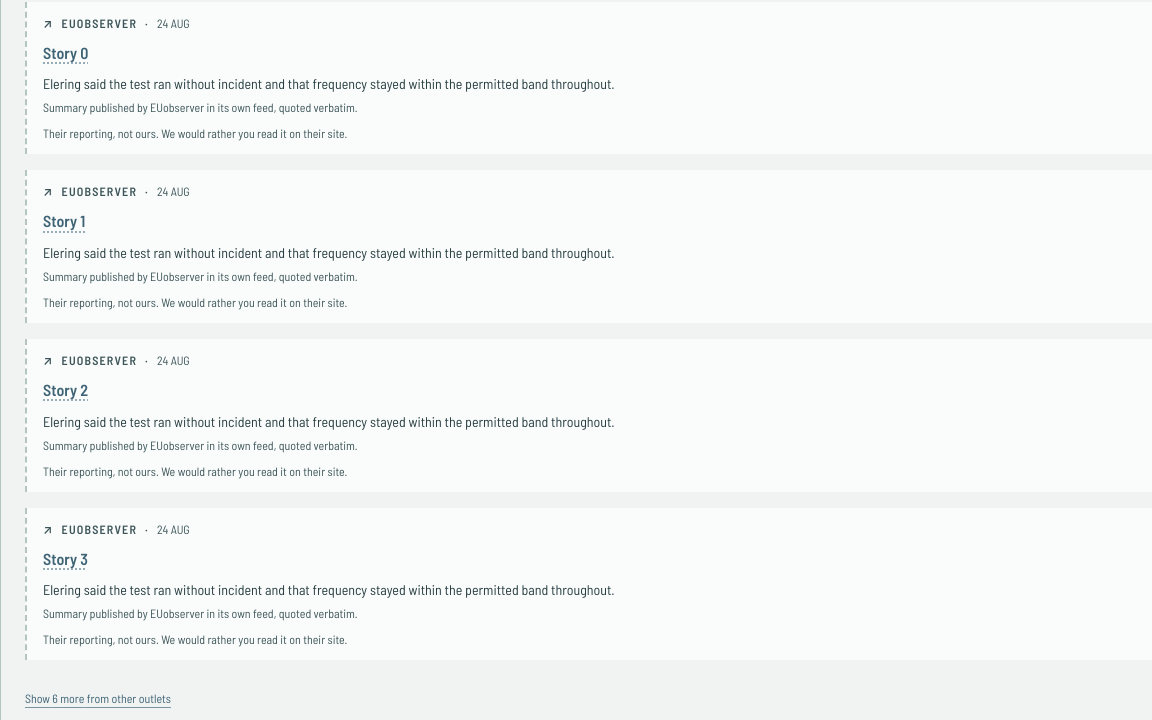
Test: Elsewhere rail: length › collapses again when the reader picks a different outlet
This screenshot has width=1152, height=720.
(page scrolled)
What coordinates should you click on to do the following:
click the button "Show 6 more from other outlets"
I would click on:
 (98, 698)
Its box is [25,676,171,719].
(page scrolled)
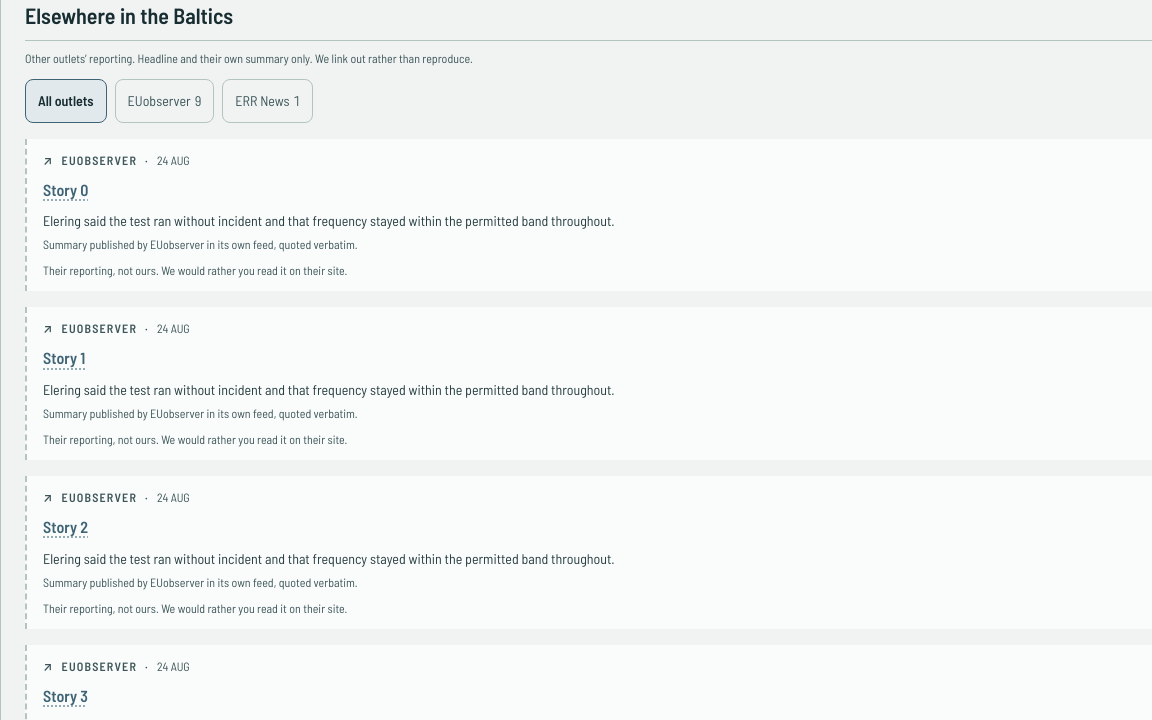
What coordinates should you click on to do the following:
click the button with aria-label "EUobserver, 9 stories"
I would click on:
 (164, 101)
Its box is [114,79,214,123].
(page scrolled)
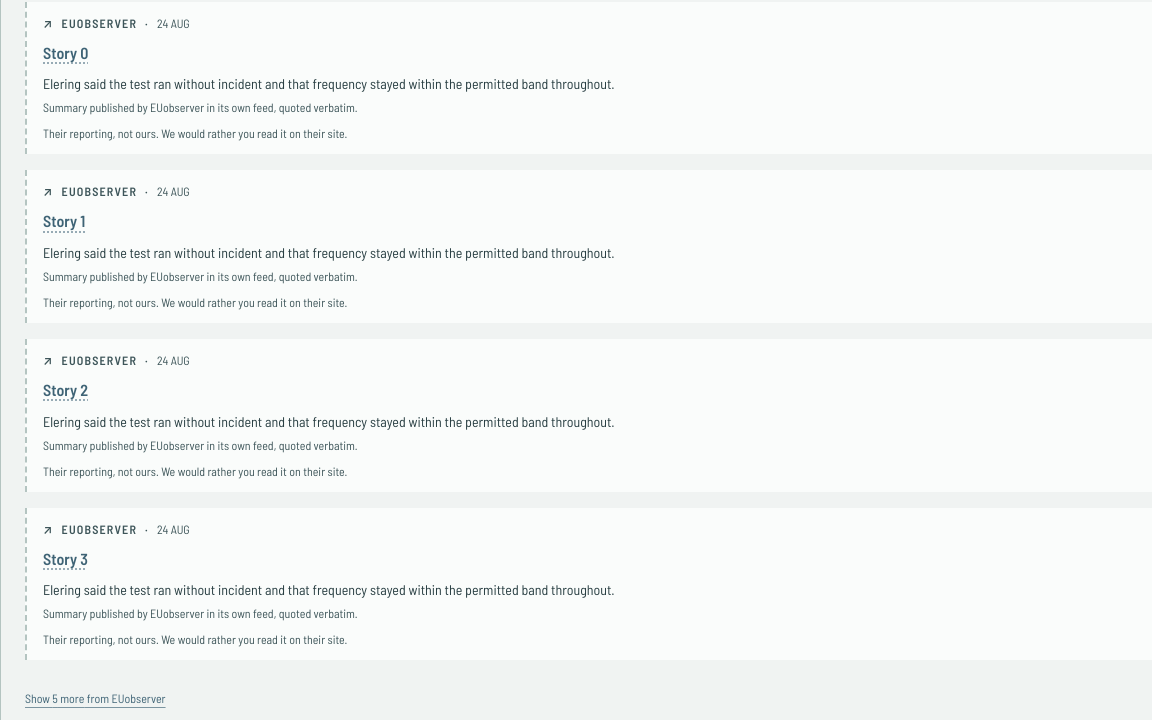
Expected: the button "Show 5 more from EUobserver" is shown, [25,676,166,719]
